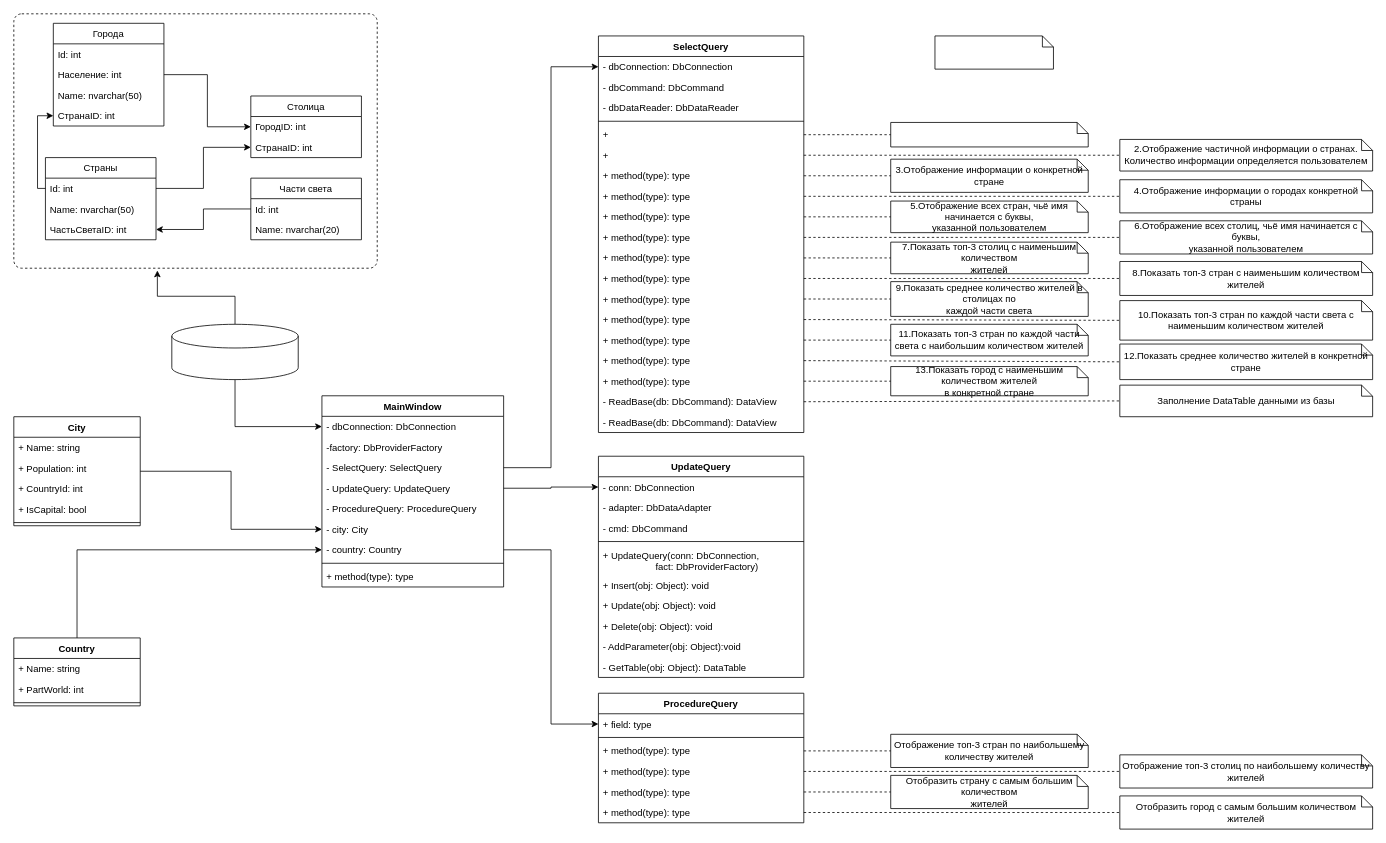
This 1386x843 diagram has some shape labels left out. Each missing label, with the centre of its shape:
"1.Отображение всей информации" goes at (989,134).
"БД Стран" goes at (234,352).
